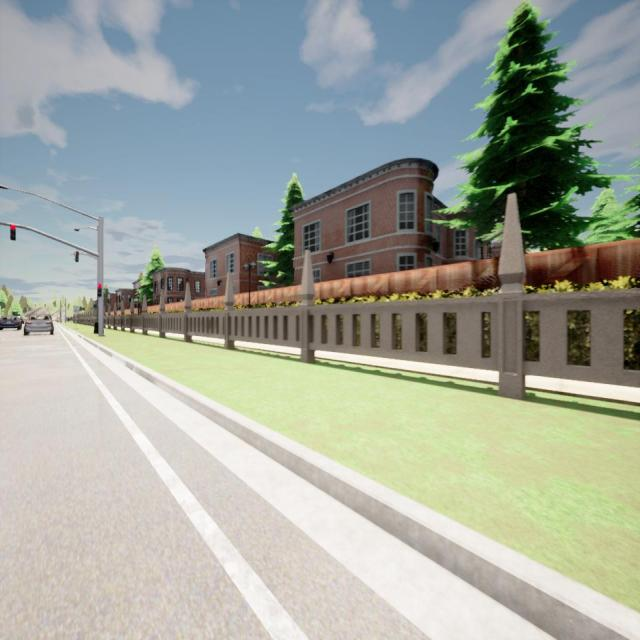Traffic_Signs: (74, 306, 80, 312)
Vehicle: (24, 314, 54, 336), (0, 315, 22, 330)
traffic_light: (10, 224, 16, 240), (97, 283, 102, 297), (74, 251, 78, 262)
